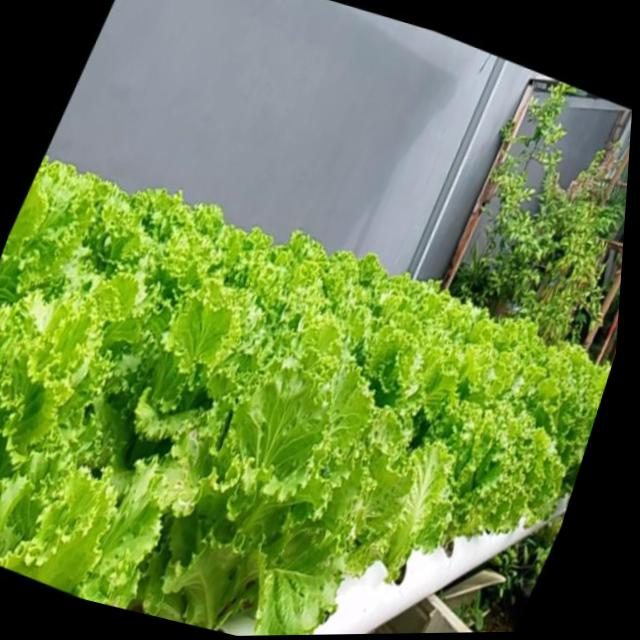Mature: (0, 125, 594, 635), (165, 343, 397, 635), (409, 348, 587, 547)
